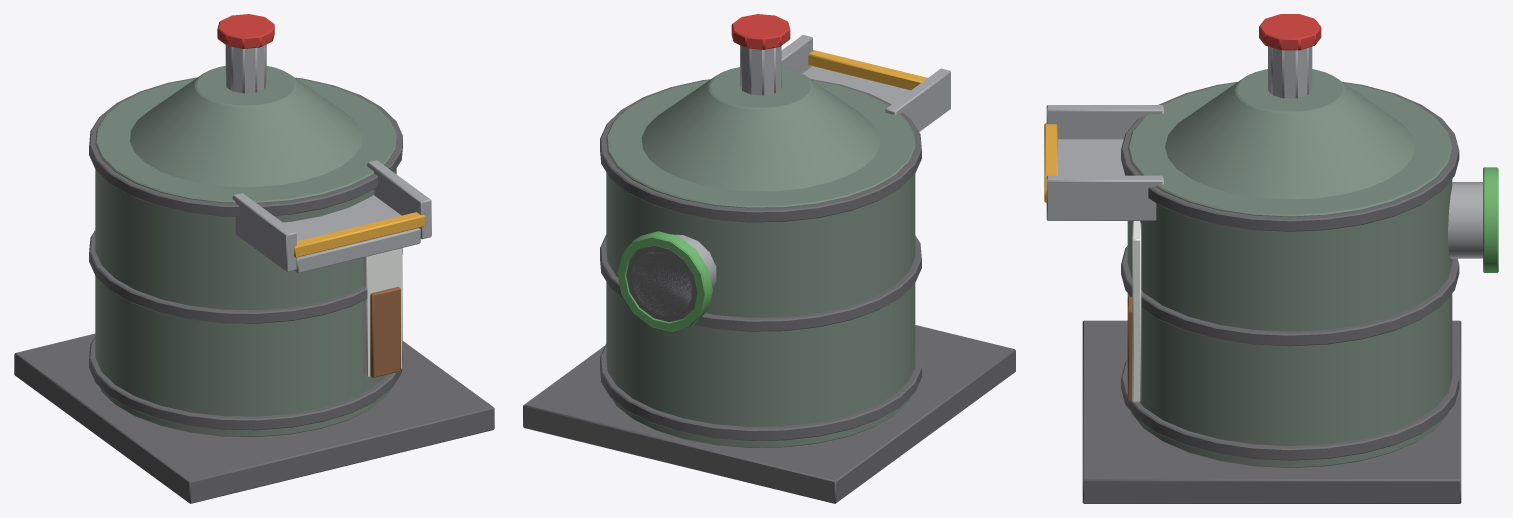
File: feBiodigester.fbx
3 renders of one model, left to right at view 1: azimuth 30°, elevation 25°; view 2: azimuth 150°, elevation 25°; view 3: azimuth 270°, elevation 25°, orthographic. The views are drawn at different scales.
Visible parts, largest first — view 1: feBiodigester_Base; view 2: feBiodigester_Base; view 3: feBiodigester_Base.
Boxes of the visible parts, left/top/right/bottom form: feBiodigester_Base: left=14, top=14, right=494, bottom=503; feBiodigester_Base: left=523, top=14, right=1015, bottom=503; feBiodigester_Base: left=1044, top=14, right=1498, bottom=503.
Size of the model in its own units: 0.84 by 0.975 by 1.01.
